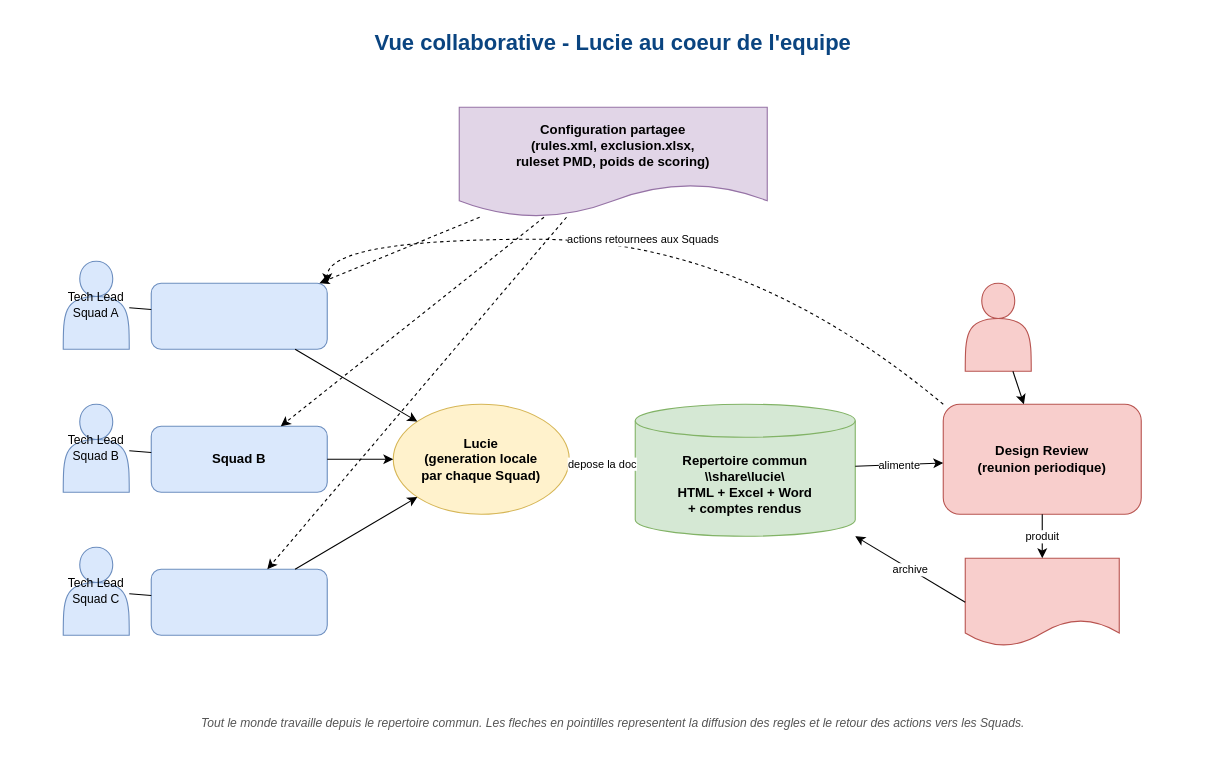
The diagram is 1225 pixels wide and 763 high, and some of its shapes have lost their labels. Here are the shapes that lost their labels. From the top down, the centre of each, then its label:
point (238, 315): Squad A
point (997, 326): Manager / Animateur Design Review
point (238, 601): Squad C
point (1041, 601): Compte rendu decisions tracees
